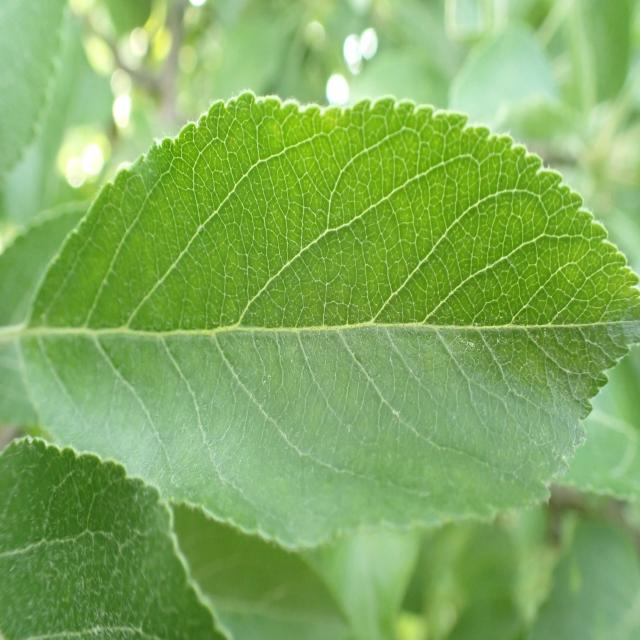healthy: (14, 91, 639, 548), (0, 434, 233, 639)
